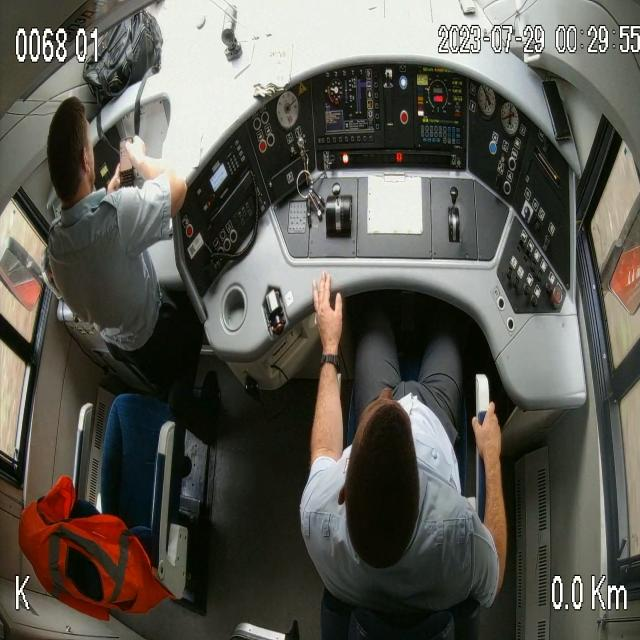smartphone: (116, 133, 138, 194)
